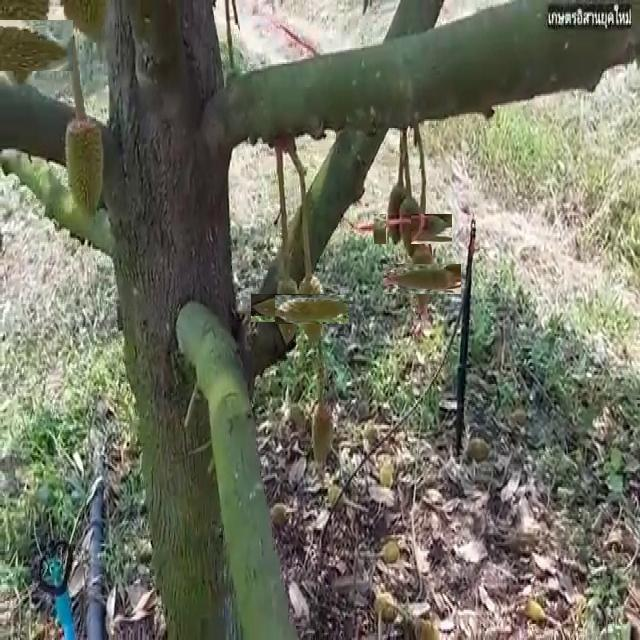durian: (60, 113, 106, 221), (0, 9, 64, 81), (395, 252, 449, 307), (386, 202, 440, 257), (262, 282, 314, 334), (286, 283, 338, 335), (386, 179, 411, 250)
